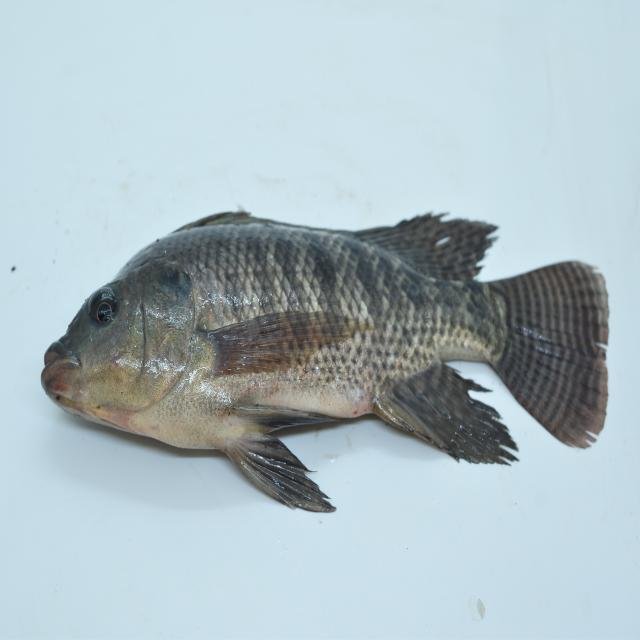Healthy Fish: (24, 204, 626, 516)
